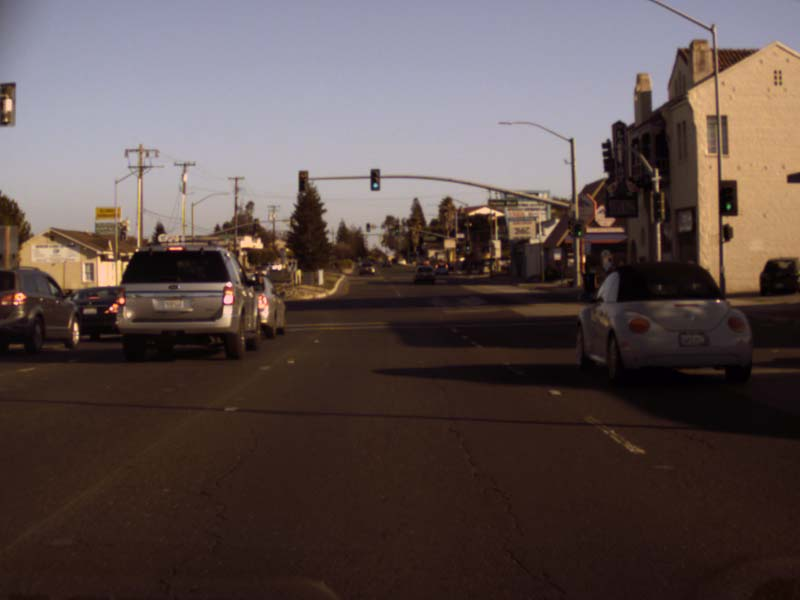Green: (719, 182, 736, 215), (370, 168, 379, 189), (575, 223, 581, 236), (465, 241, 469, 251), (456, 244, 460, 253)
Red: (299, 172, 305, 190)
